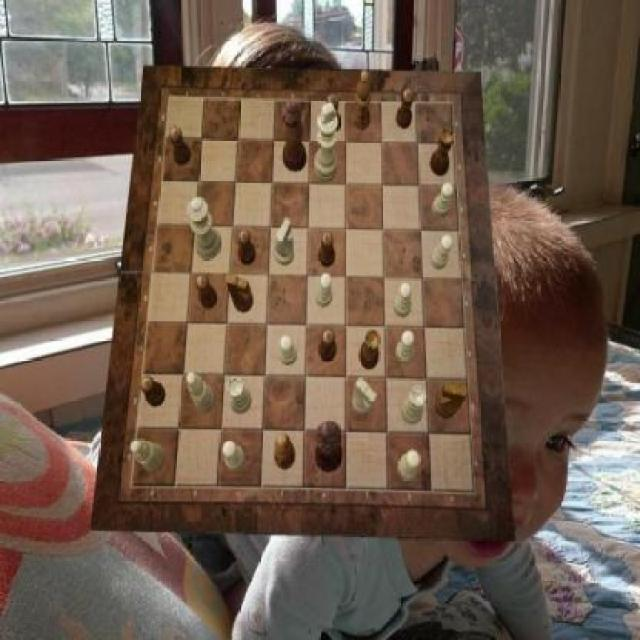bishop: (352, 71, 370, 131), (276, 432, 296, 470)
black-bishop: (316, 418, 342, 472)
black-king: (436, 382, 468, 419), (226, 275, 254, 313)
black-knight: (169, 128, 192, 166), (140, 377, 166, 408), (195, 274, 218, 308), (324, 94, 342, 134), (395, 89, 413, 129), (237, 230, 256, 266), (318, 232, 336, 268), (319, 329, 336, 363)
black-pawn: (283, 101, 308, 172)
black-queen: (430, 129, 454, 177), (358, 331, 381, 371)
black-rook: (188, 371, 217, 413), (131, 439, 166, 473)
white-bishop: (314, 103, 338, 182)
white-king: (352, 377, 377, 415), (274, 219, 294, 266)
white-knight: (431, 235, 454, 270), (432, 183, 455, 218), (397, 451, 420, 483), (223, 442, 246, 472), (396, 329, 414, 364), (315, 272, 333, 307), (278, 336, 298, 366), (394, 283, 411, 318)
white-pawn: (188, 197, 223, 261)
white-queen: (402, 386, 428, 425), (228, 377, 252, 415)
